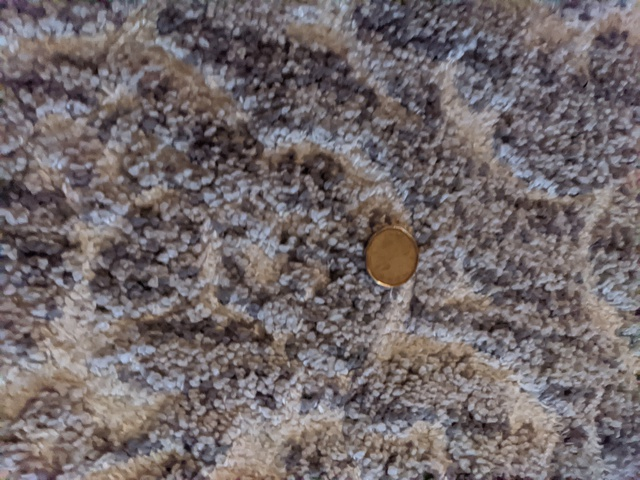loonie: (356, 217, 427, 288)
